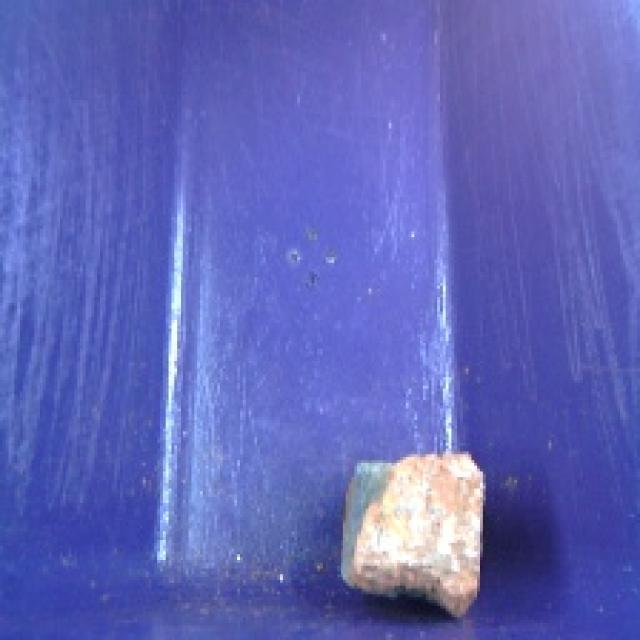brick: (331, 438, 496, 624)
